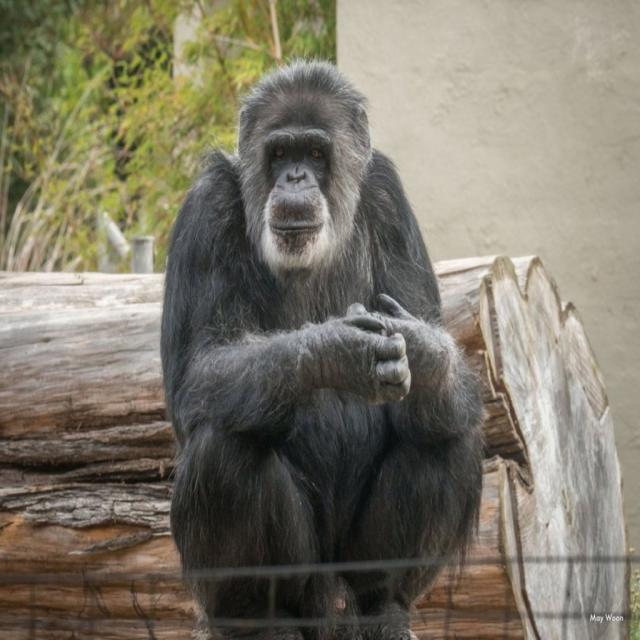Chimpanzee: (160, 56, 486, 640)
